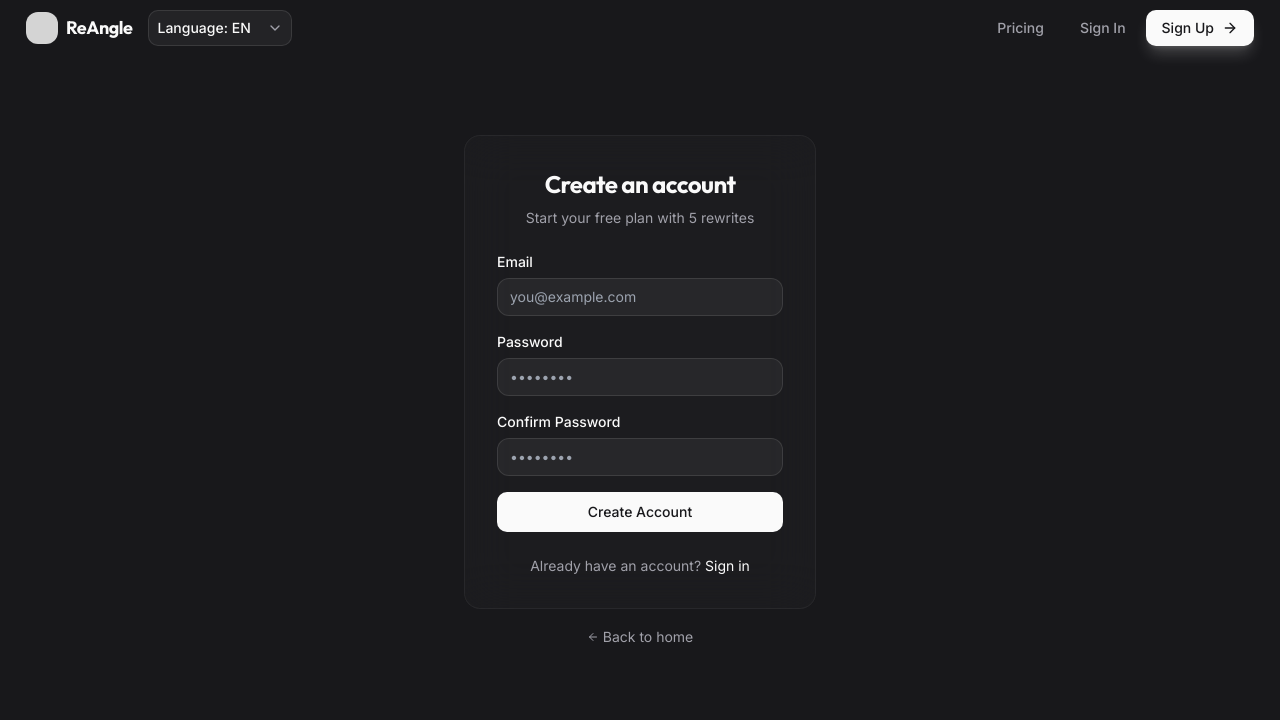
Scenario: RegisterPage › shows confirmation screen on successful sign-up
Step 1. Type "new@example.com" into the field labelled "Email" → (640, 297), box [497, 278, 783, 316]
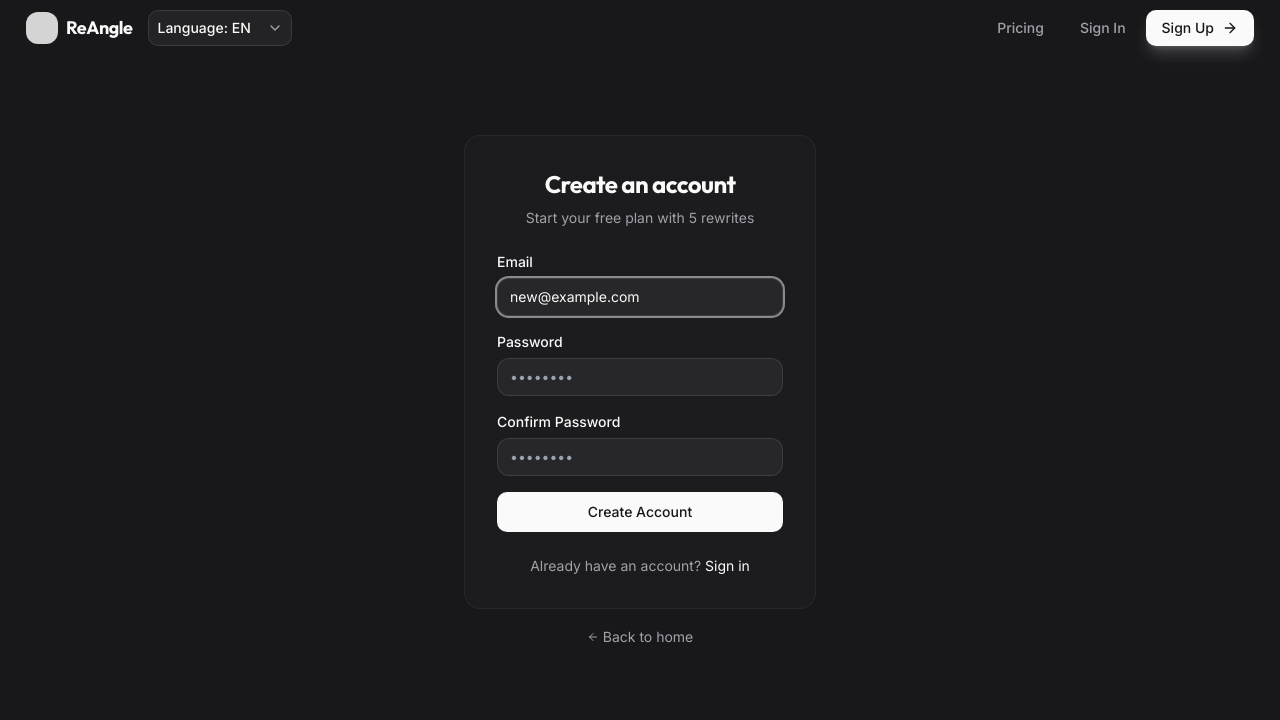
Step 2. Type "password123" into the password field labelled "Password" → (640, 377), box [497, 358, 783, 396]
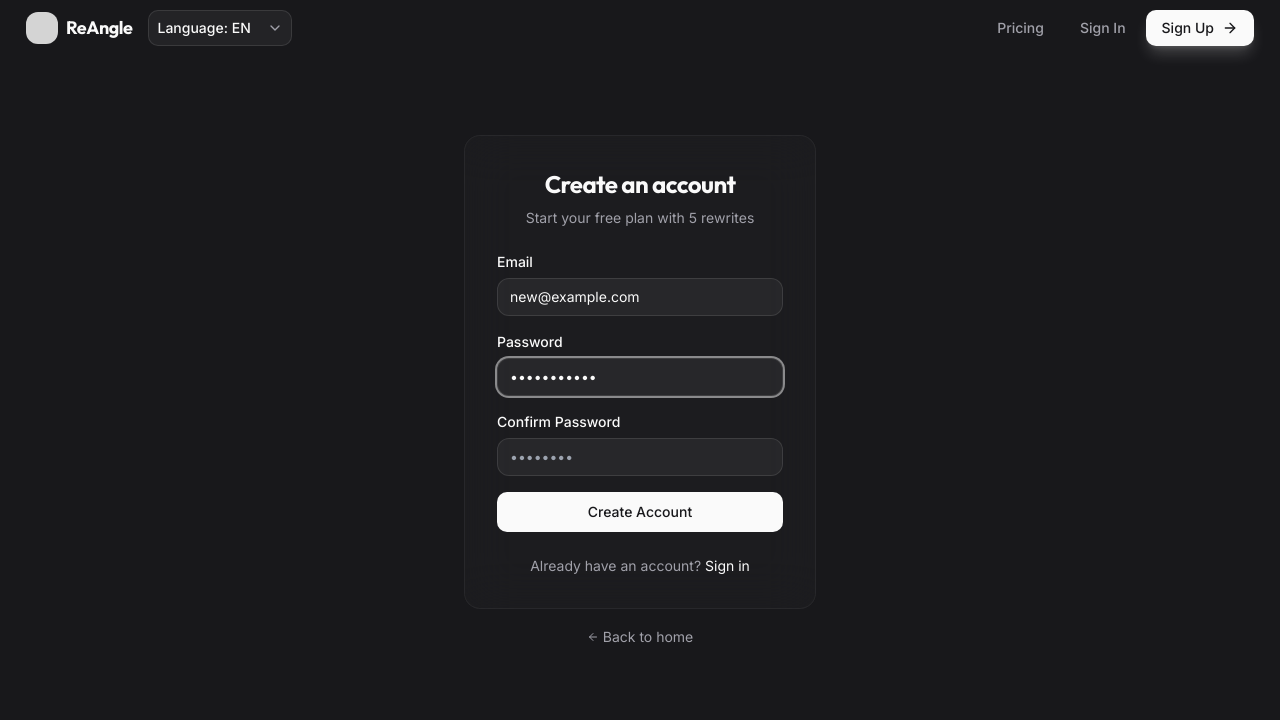
Step 3. Type "password123" into the password field labelled "Confirm Password" → (640, 457), box [497, 438, 783, 476]
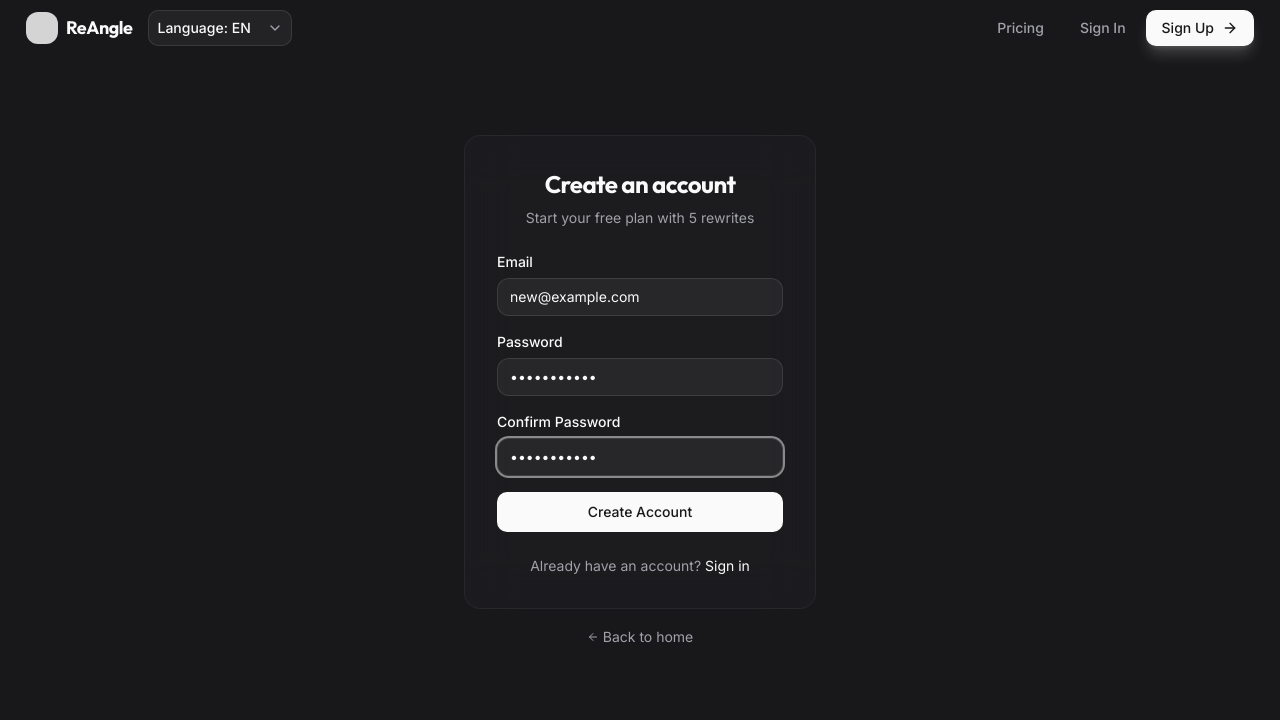
Step 4. Click the button "Create Account" → (640, 512), box [497, 492, 783, 532]
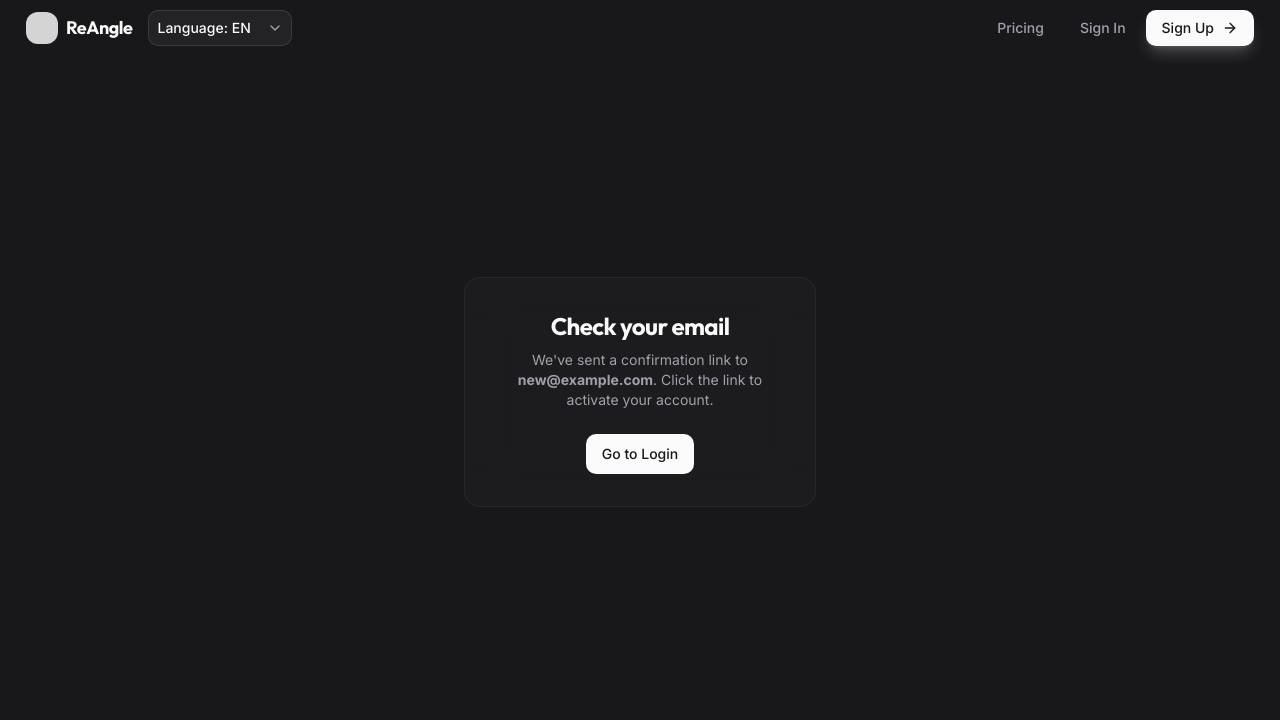
Expected: the heading "Check your email" is shown, [551, 311, 729, 341]
